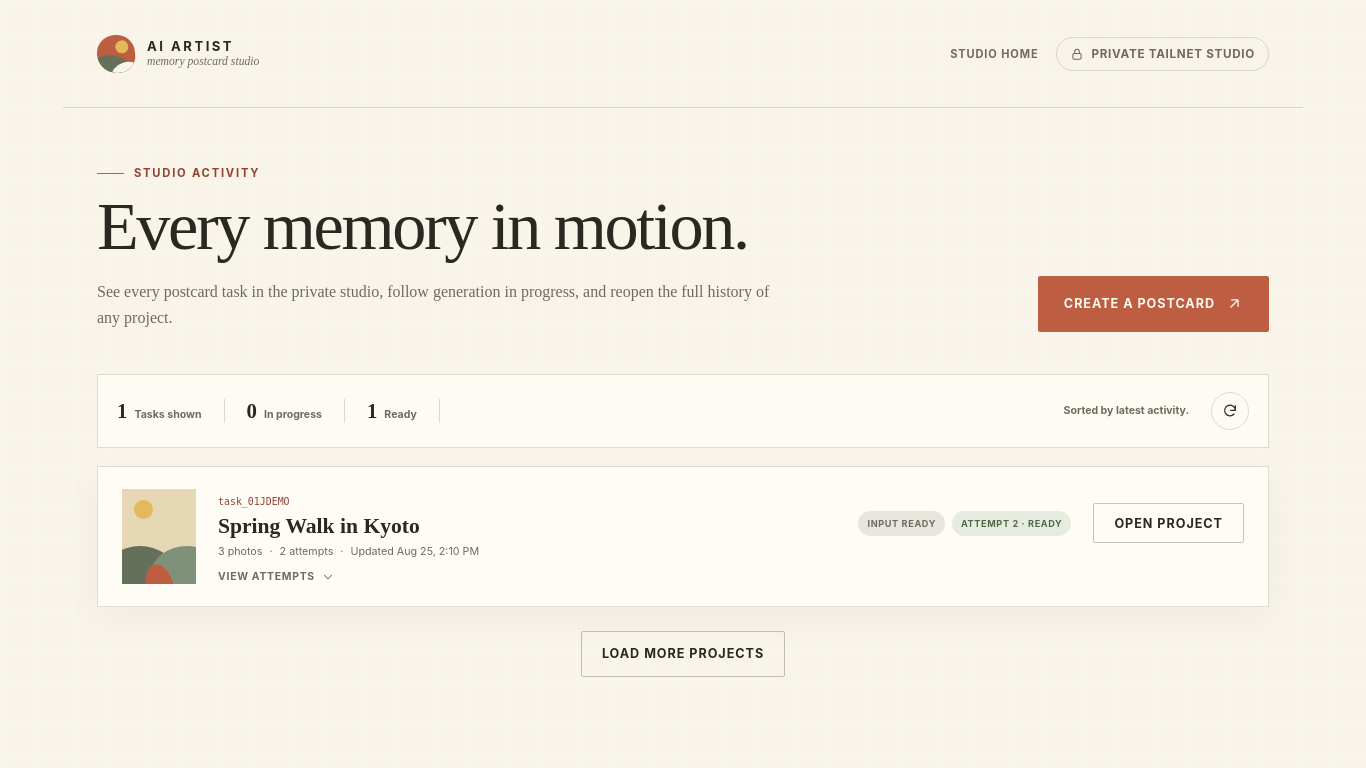
Test: ProjectCenter › reloads the first page when a pagination cursor is invalid
Step 1. Click the button "Load more projects" → point(683, 654), box left=581, top=631, right=785, bottom=677
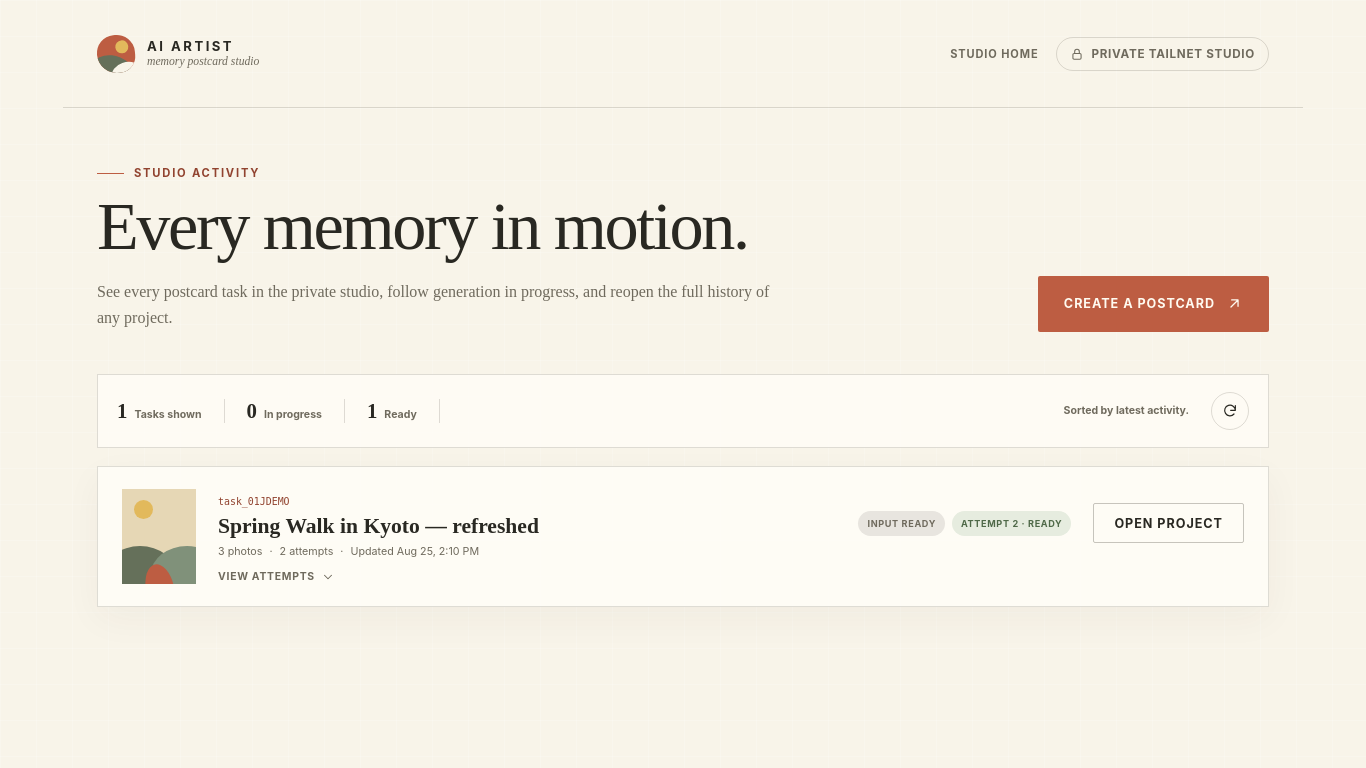
Expected: the heading "Spring Walk in Kyoto — refreshed" is shown, left=218, top=514, right=539, bottom=538
Expected: the button "Load more projects" is gone
